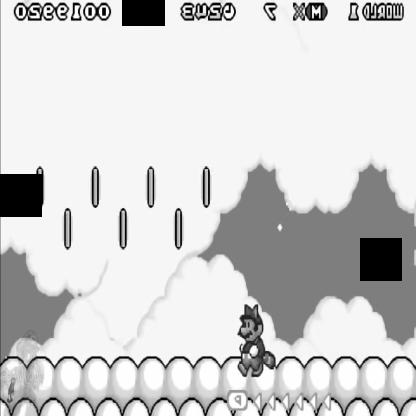Mario: (237, 302, 275, 377)
moneda: (33, 165, 48, 210), (144, 164, 157, 214), (172, 206, 185, 247), (62, 206, 74, 247), (115, 212, 129, 247), (90, 168, 102, 207), (150, 0, 167, 26), (201, 165, 211, 208)
